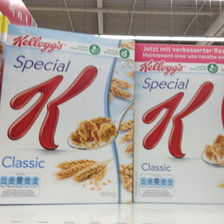cereal: (1, 24, 135, 204), (134, 42, 224, 206)
